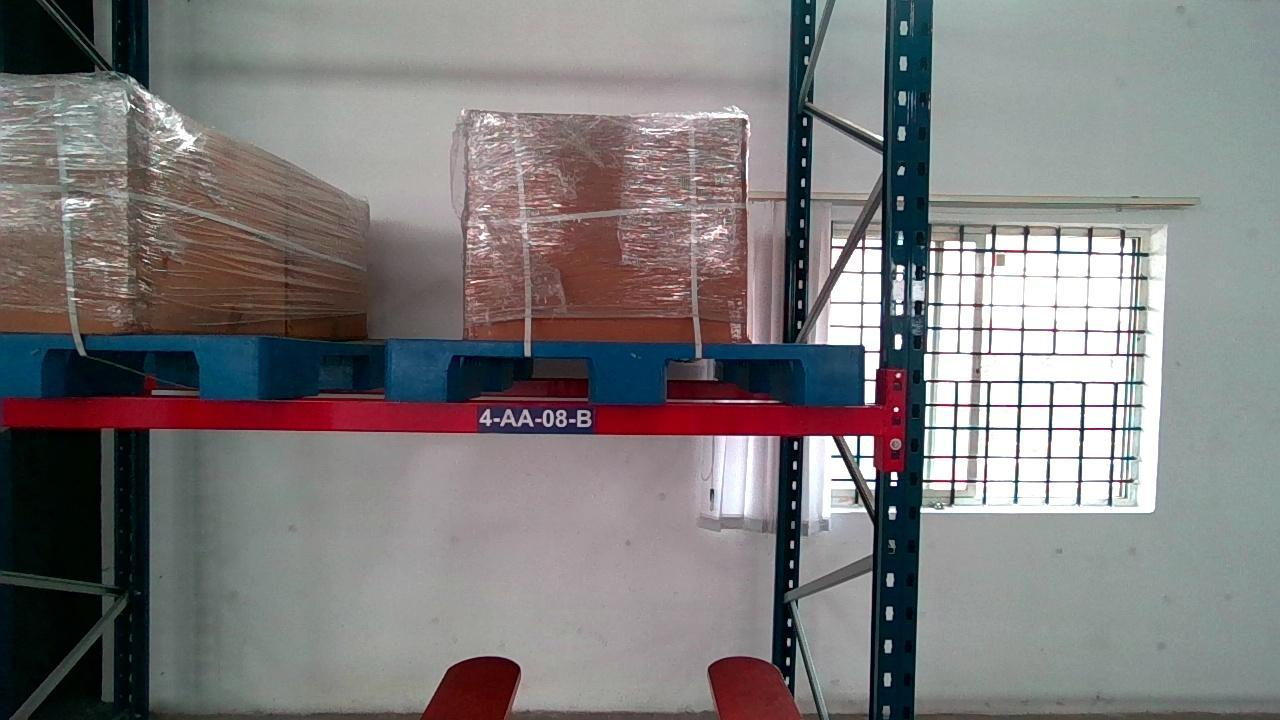h_rack: (3, 397, 886, 435)
small_pallet: (386, 337, 864, 403), (0, 334, 259, 395)
